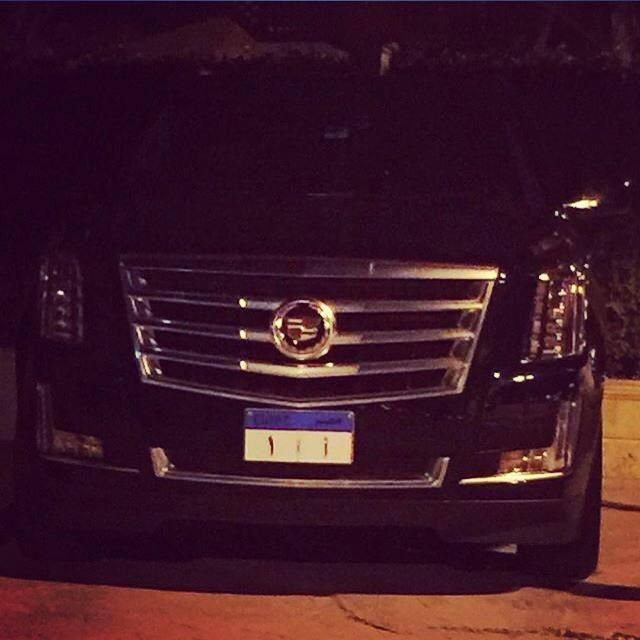1: (265, 432, 280, 459)
License Plate: (241, 407, 357, 467)
alef: (321, 434, 334, 459)
car: (19, 66, 610, 570)
